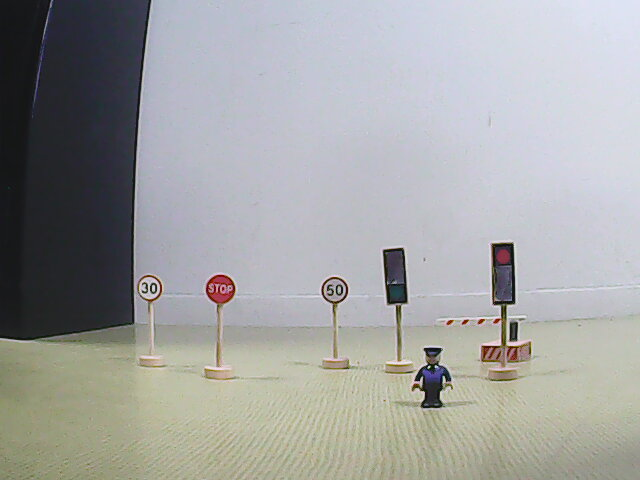barrier: (434, 314, 538, 366)
green_traffic_sign: (382, 246, 410, 307)
person: (408, 344, 456, 410)
red_traffic_sign: (490, 243, 515, 305)
sign_30: (136, 274, 163, 303)
sign_50: (319, 276, 349, 305)
stop_sign: (205, 274, 236, 306)
